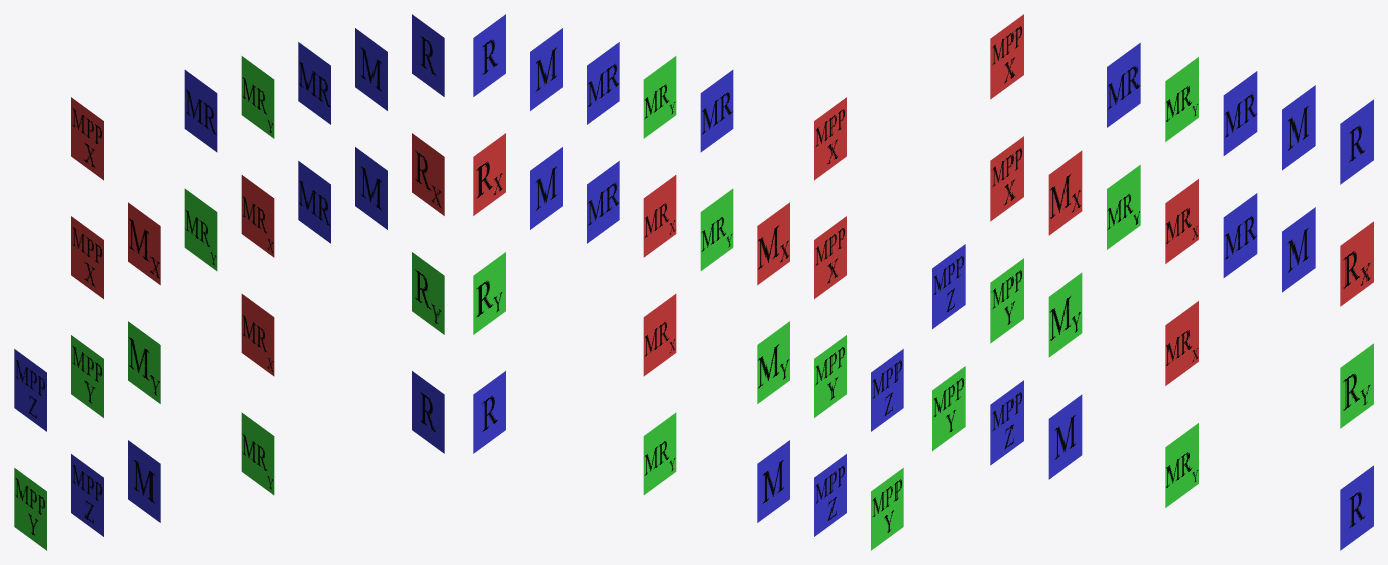
File: collapsing.gltf
3 renders of one model, left to right at view 1: azimuth 30°, elevation 25°; view 2: azimuth 150°, elevation 25°; view 3: azimuth 330°, elevation 25°, orthographic. The views are drawn at different scales.
Bounding box in the file's own units: 7 × 7 × 1.
Materials: 1 (1 with a texture image).
